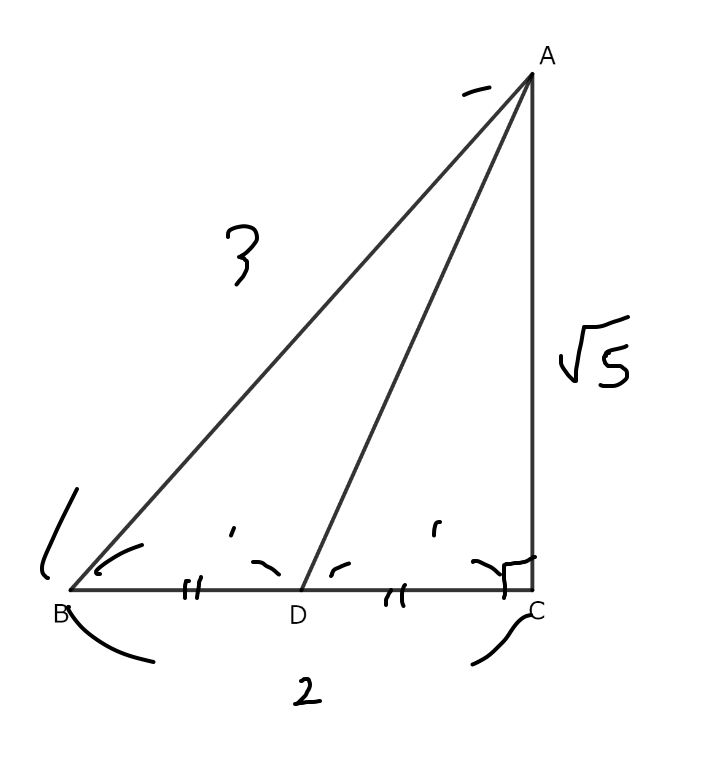Angle_Right: (500, 549, 542, 599)
Edge_Dline: (377, 578, 416, 620), (169, 571, 206, 609)
